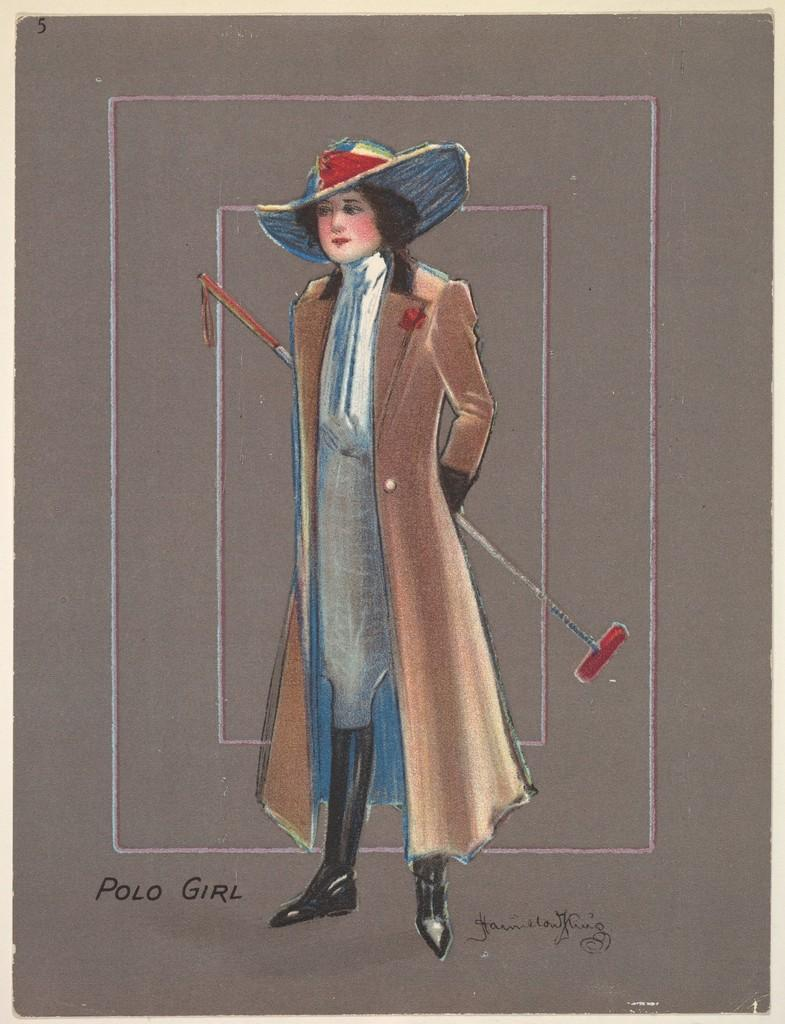Hat: (255, 130, 466, 250)
